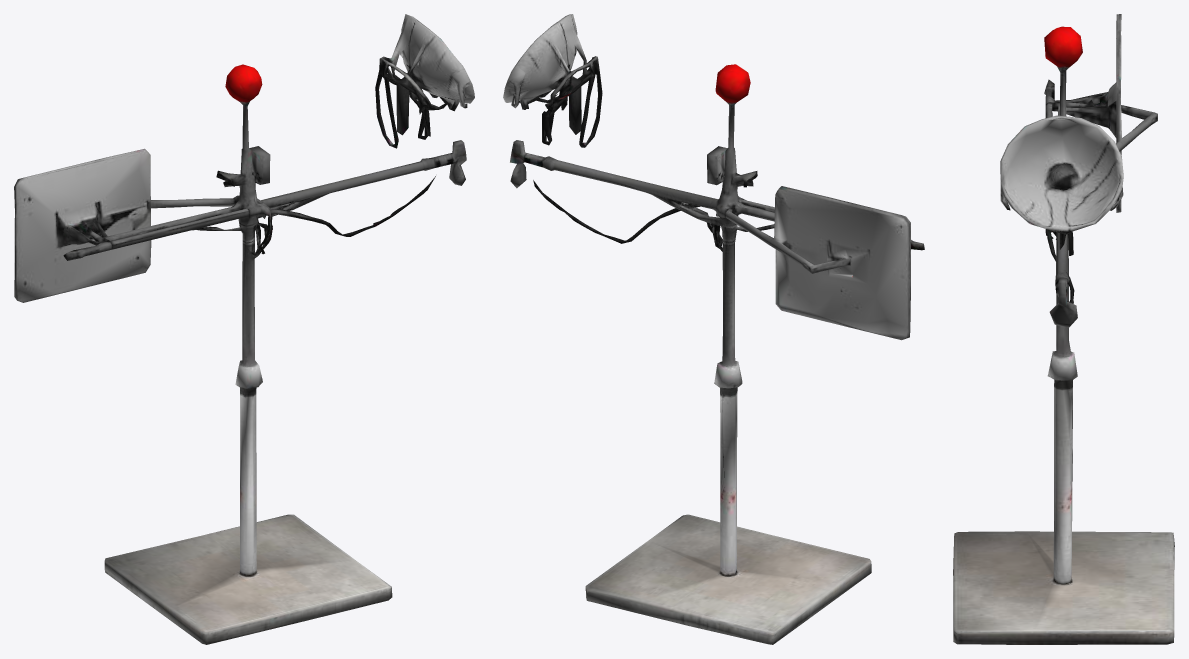
Rendered from roof_antenna.glb.
The picture shows the model from 3 angles, left to right: view 1: azimuth 30°, elevation 25°; view 2: azimuth 150°, elevation 25°; view 3: azimuth 270°, elevation 25°; orthographic projection. The views are drawn at different scales.
Parts seen in each view (by area): view 1: roof_antenna; view 2: roof_antenna; view 3: roof_antenna.
Boxes of the visible parts, <box> form: roof_antenna: <box>14,14,474,644</box>; roof_antenna: <box>503,14,924,644</box>; roof_antenna: <box>953,14,1174,644</box>.
Bounding box in the file's own units: 5.1 × 6 × 2.12.
1 material, 1 textured.
